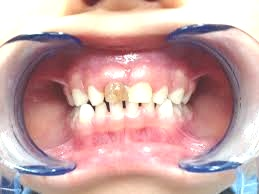Tooth Discoloration: (103, 79, 131, 104)
